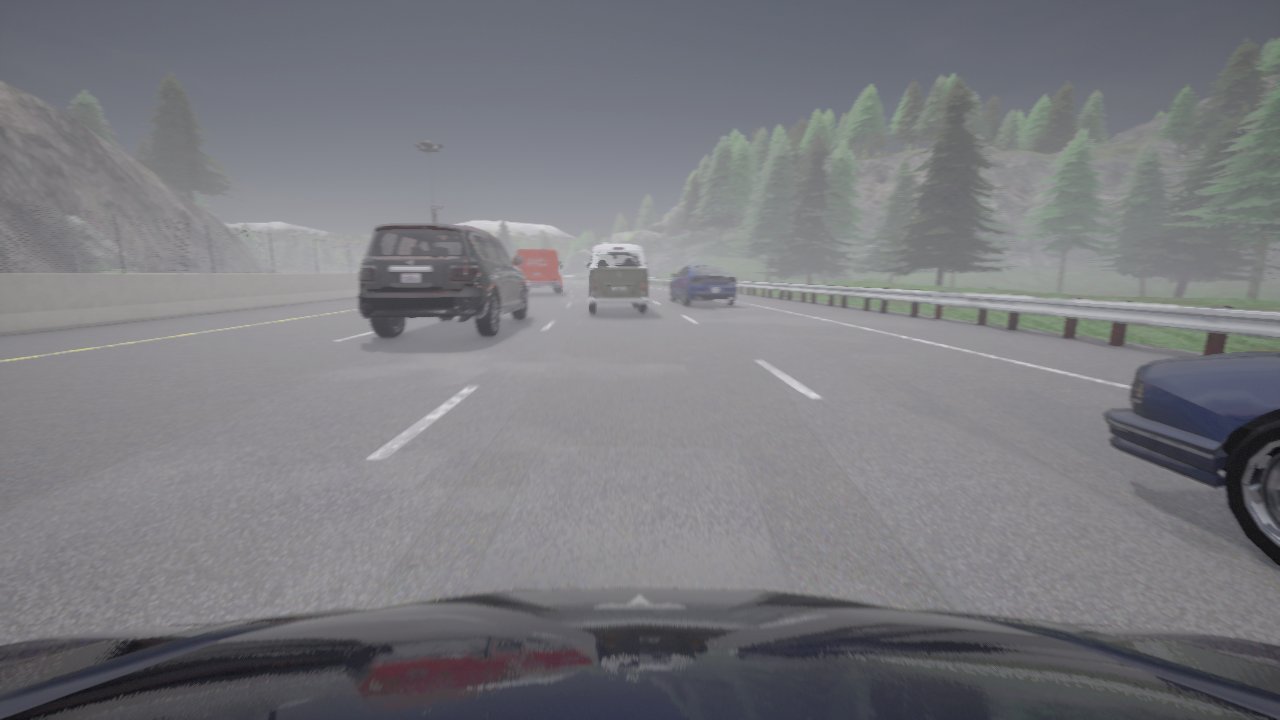cyclist: (0, 588, 1279, 719), (1103, 352, 1279, 566), (359, 224, 527, 337), (584, 243, 648, 313), (670, 265, 737, 305), (517, 250, 562, 294)
